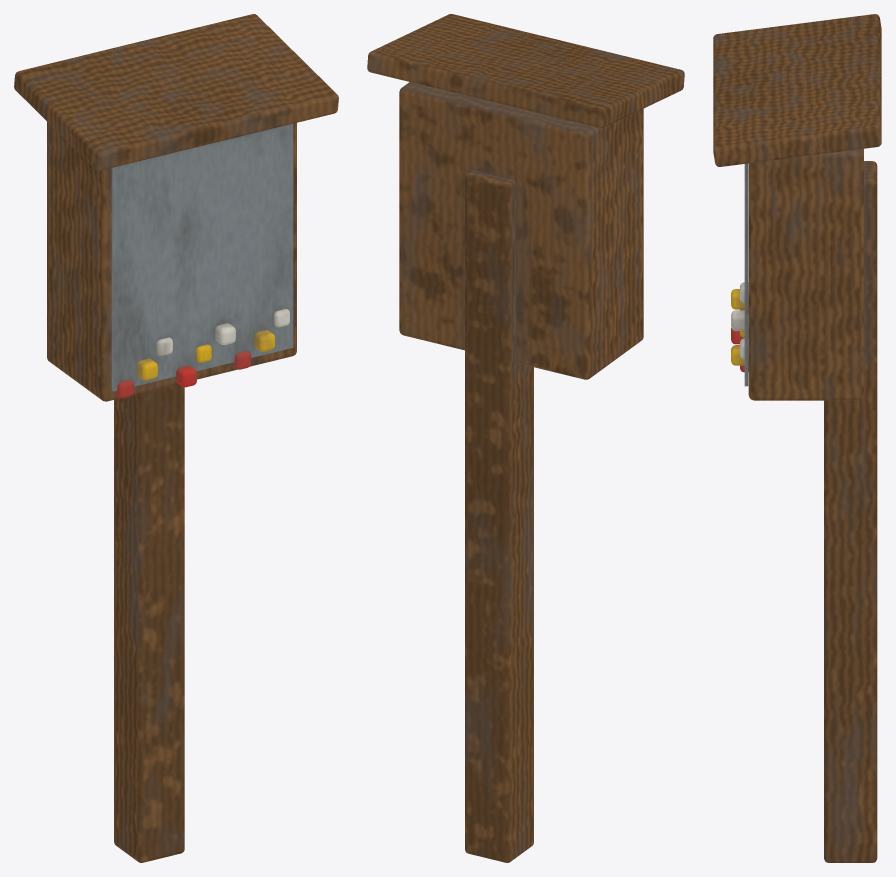
File: pod_kapliczka.glb
3 renders of one model, left to right at view 1: azimuth 30°, elevation 25°; view 2: azimuth 150°, elevation 25°; view 3: azimuth 270°, elevation 25°, orthographic. The views are drawn at different scales.
Visible parts, largest first — view 1: Kapliczka; view 2: Kapliczka; view 3: Kapliczka.
Boxes of the visible parts, x1,y1,x2,y2 form: Kapliczka: (14,14,338,862); Kapliczka: (367,14,684,862); Kapliczka: (713,14,881,862).
Size of the model in its own units: 0.62 by 1.95 by 0.3805.
Materials: 1 (1 with a texture image).
